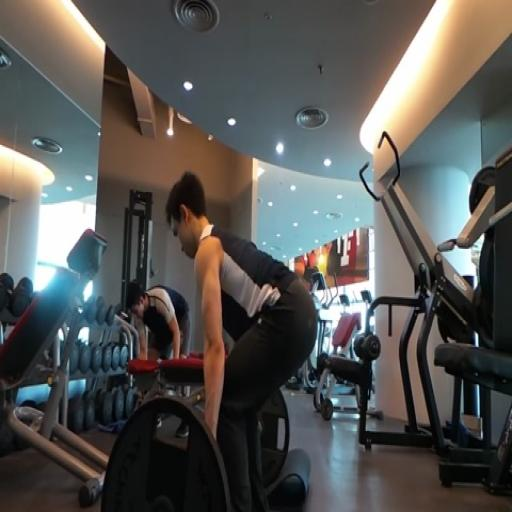exercise: (162, 169, 321, 511)
